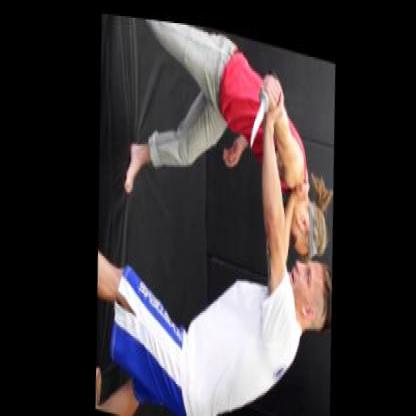knife: (245, 54, 280, 154)
